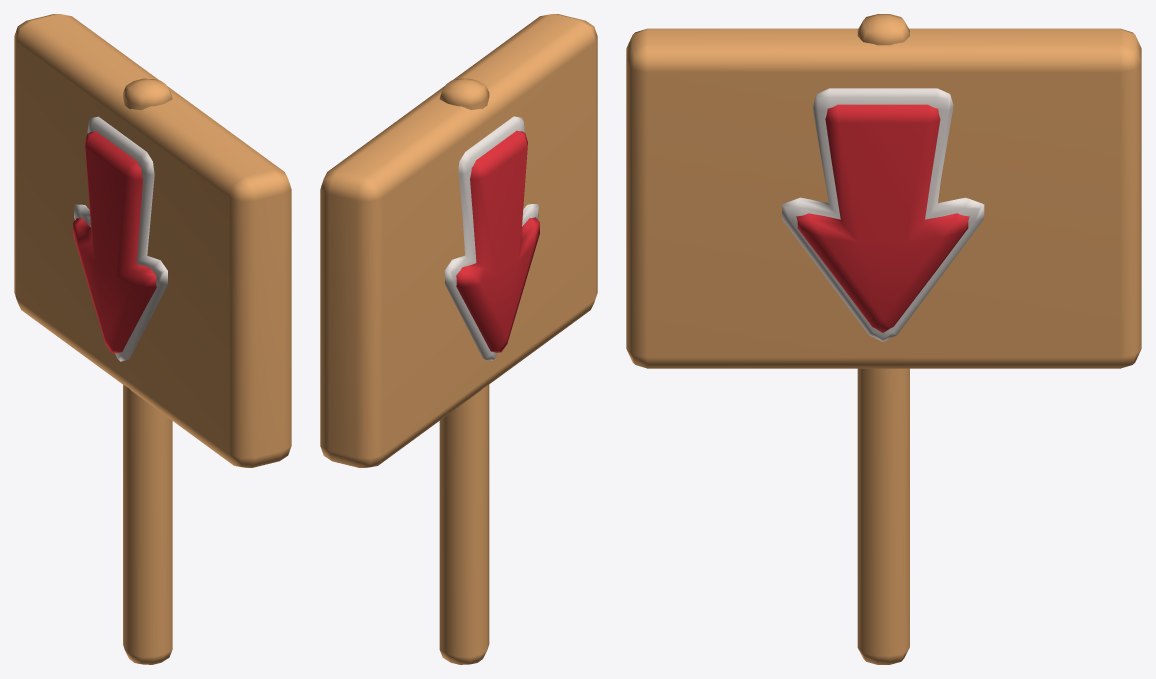
Rendered from Sign2Down.fbx.
3 views of the same model, side by side, from view 1: azimuth 30°, elevation 25°; view 2: azimuth 150°, elevation 25°; view 3: azimuth 270°, elevation 25° (orthographic). The views are drawn at different scales.
Visible parts, largest first — view 1: polySurface7; view 2: polySurface7; view 3: polySurface7.
Part boxes in pixels (x1=…): polySurface7: x1=14, y1=14, x2=291, y2=664; polySurface7: x1=320, y1=14, x2=597, y2=664; polySurface7: x1=626, y1=14, x2=1141, y2=664.
Bounding box in the file's own units: 0.8546 × 4.98 × 3.62.
